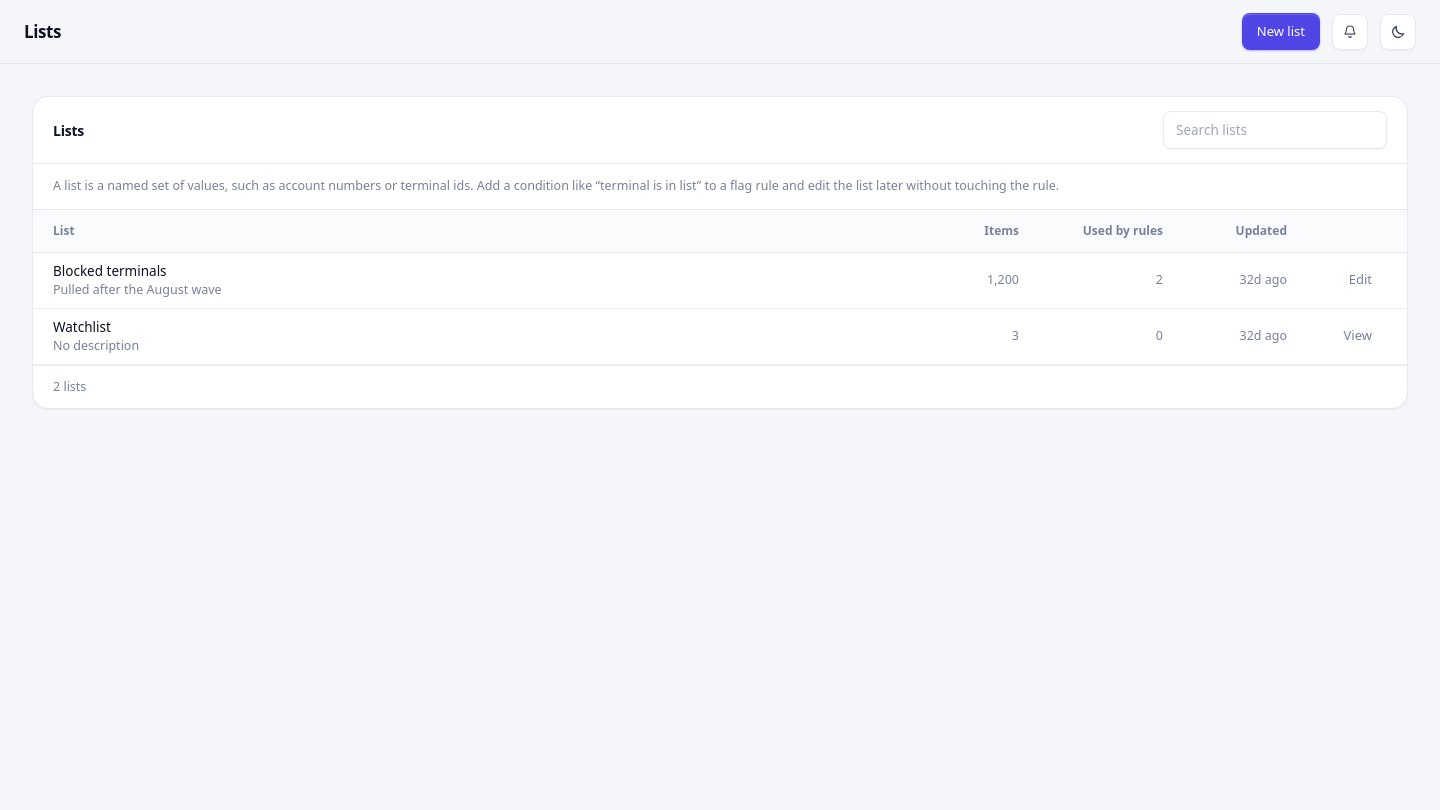
the lists index › shows a no-match state, distinct from having no lists, and clears it
Type "zzz" into the search field named "Filter lists".
click(1275, 130); type("zzz")  # box [1163,111,1387,149]
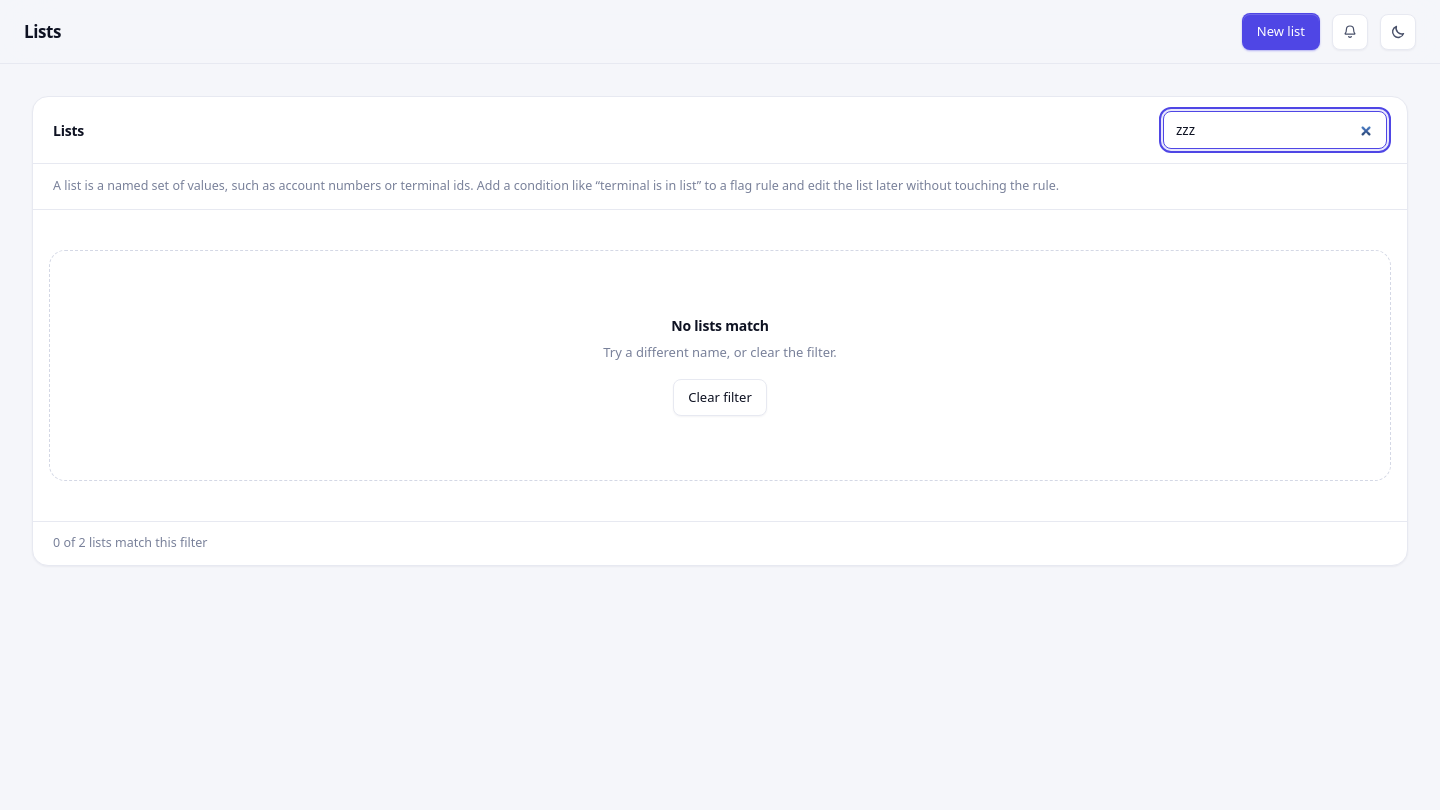
Now the text "No lists match" is shown, box [671,315,769,336]
Click the button "Clear filter".
click(720, 397)  # box [673,379,767,416]
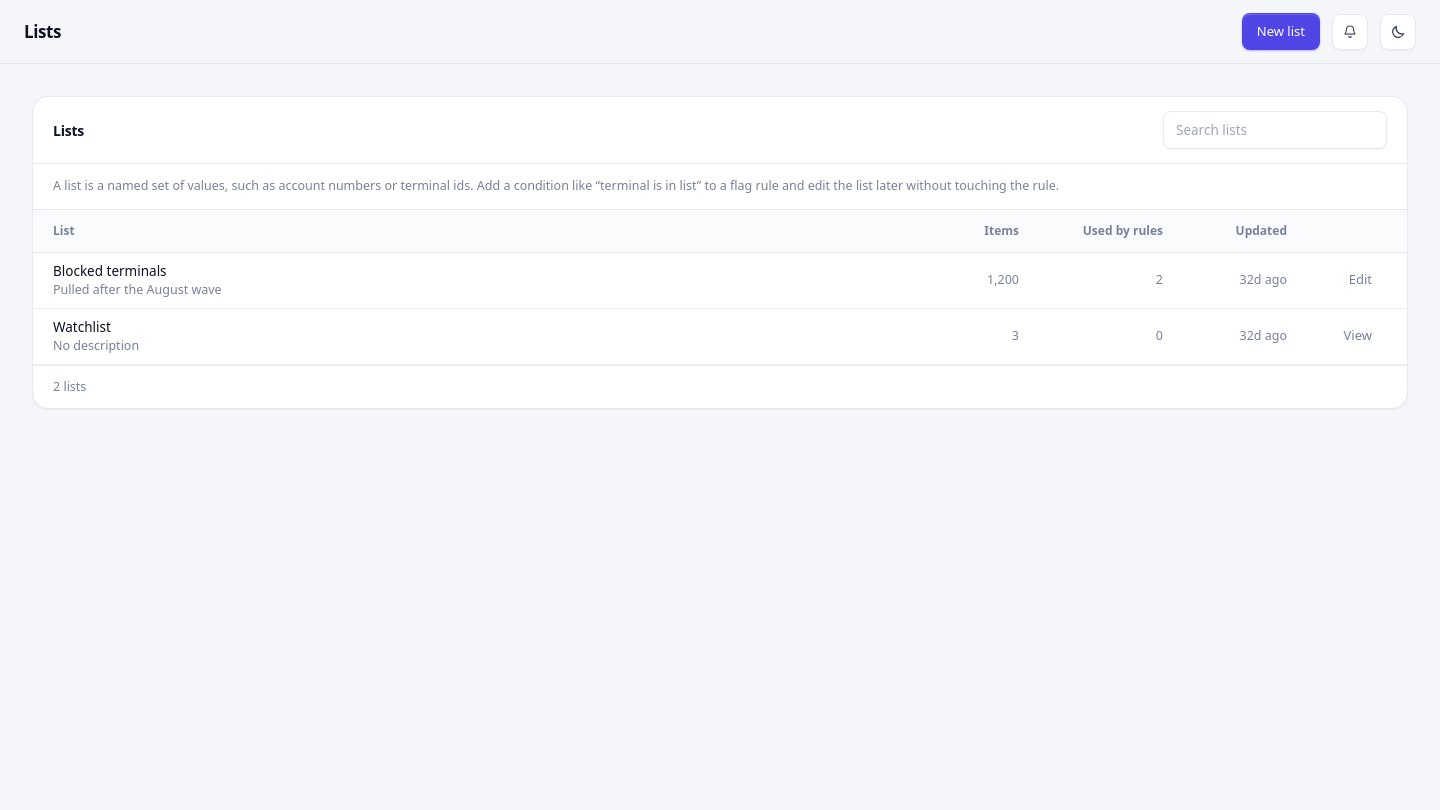
Now the link "Blocked terminals" is shown, box [53,262,167,280]
Now the search field named "Filter lists" is empty, box [1163,111,1387,149]
